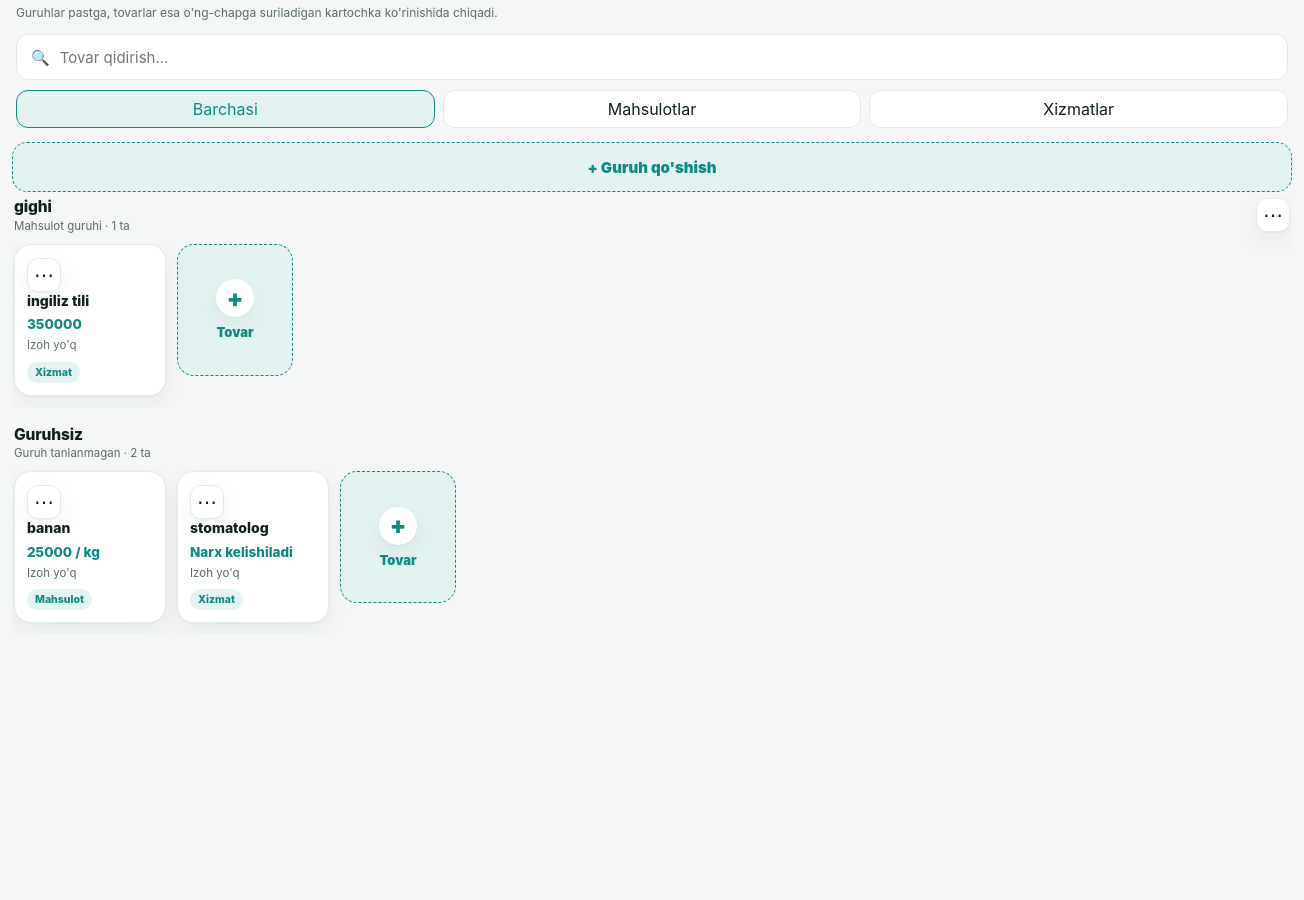
Test: v1656 mahsulot va xizmatlar pariteti › guruhlar va Guruhsiz yozuvlarni aynan monolit sectionlarida ko'rsatadi
Expected: the heading "gighi" is shown, x1=14 y1=197 x2=52 y2=216
Expected: the text "Mahsulot guruhi · 1 ta" is shown, x1=14 y1=219 x2=130 y2=233
Click the button named "stomatolog amallari". click: click(207, 502)
box: x1=190 y1=485 x2=224 y2=519
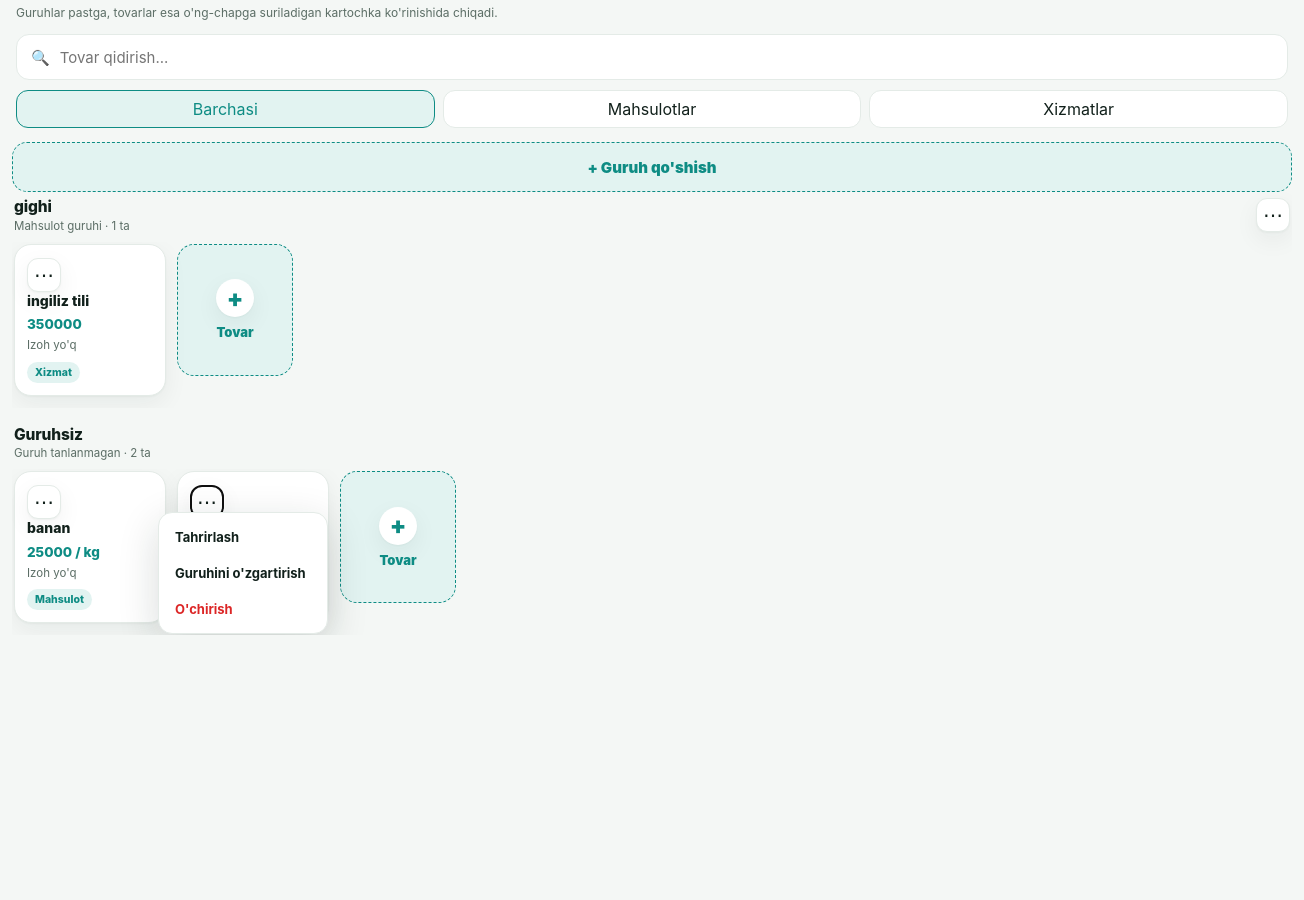
Expected: the button "Tahrirlash" is shown, x1=165 y1=519 x2=321 y2=555
Expected: the button "Guruhini o'zgartirish" is shown, x1=165 y1=555 x2=321 y2=591
Expected: the button "O'chirish" is shown, x1=165 y1=591 x2=321 y2=627
